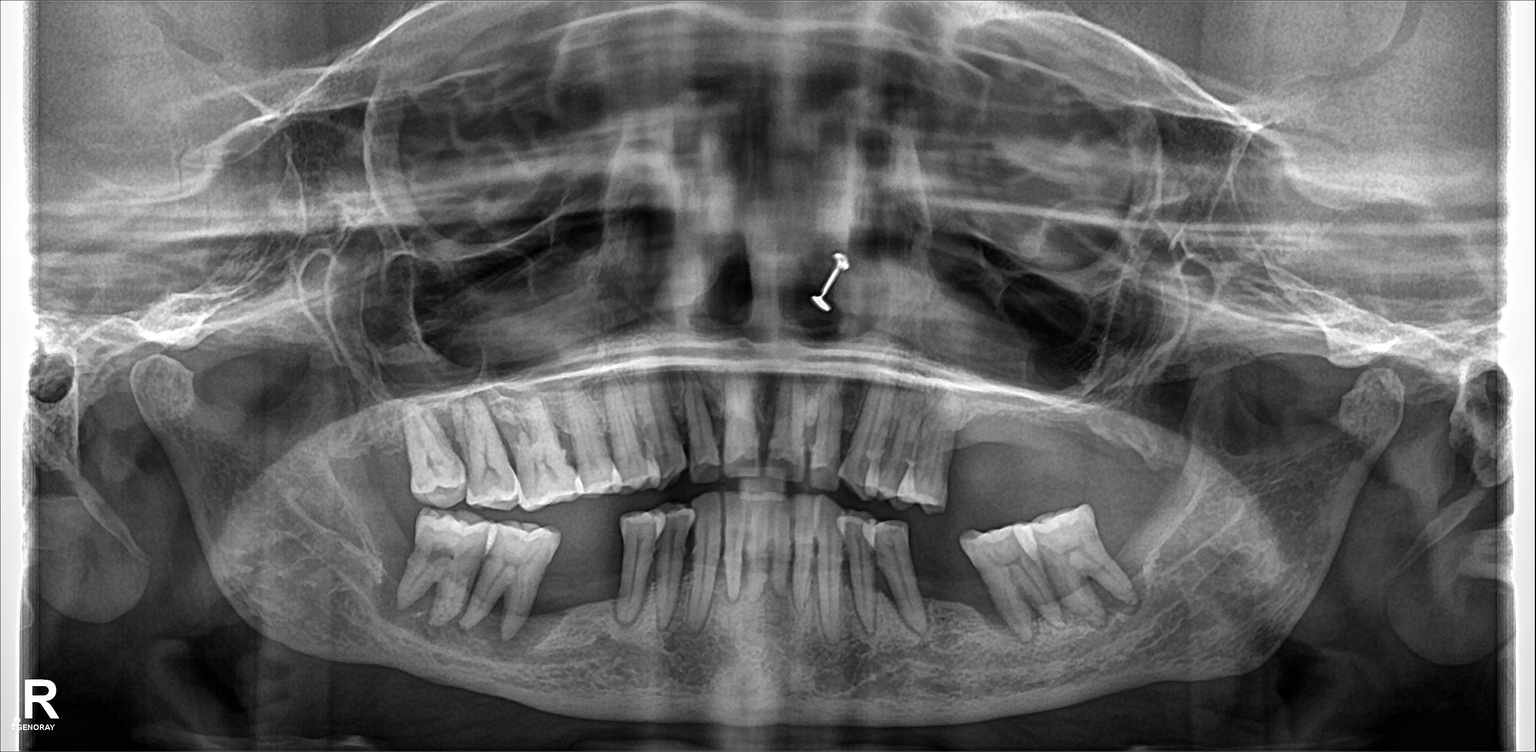Missing Tooth: (553, 538, 614, 631), (920, 530, 973, 633), (359, 512, 404, 617), (1134, 383, 1178, 480), (1002, 395, 1041, 492), (1048, 393, 1085, 486), (371, 410, 411, 492), (1119, 503, 1164, 575), (959, 402, 992, 498), (1097, 391, 1125, 493)
